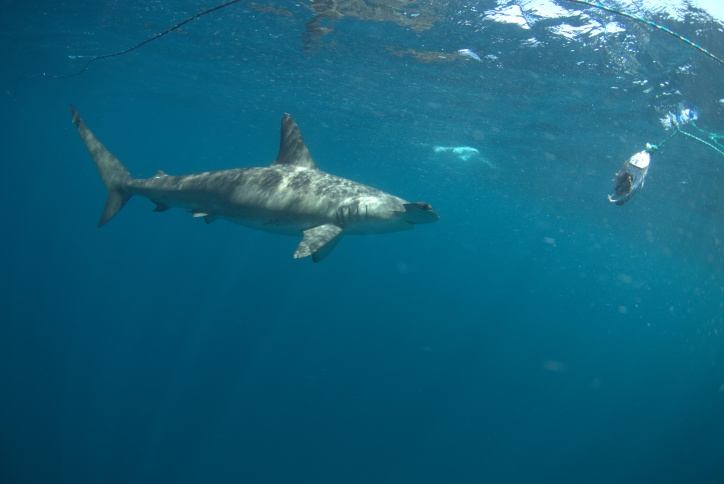Hammer: (44, 89, 448, 289)
